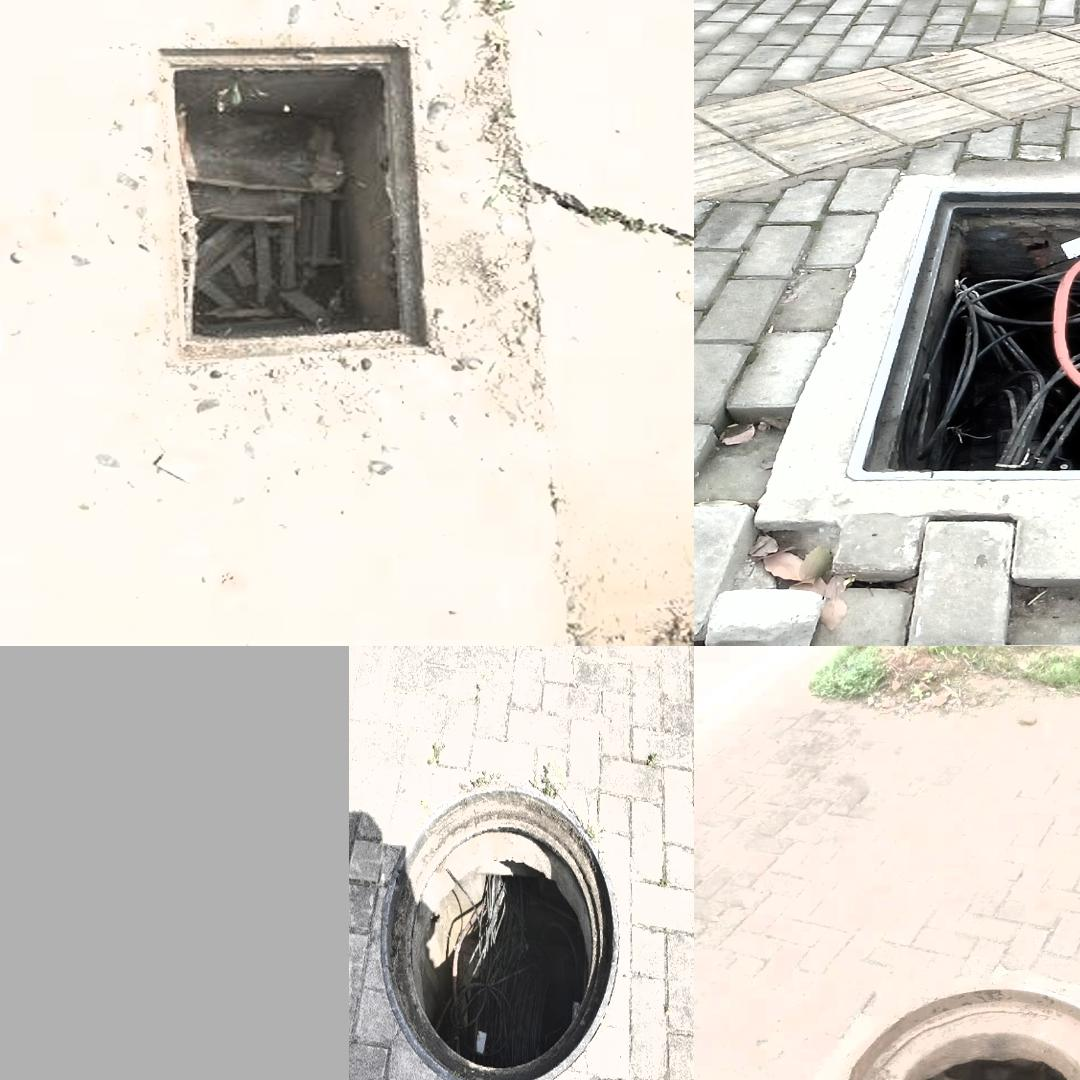lose: (89, 11, 509, 404), (854, 151, 1080, 488), (379, 784, 621, 1080), (831, 984, 1080, 1080)
